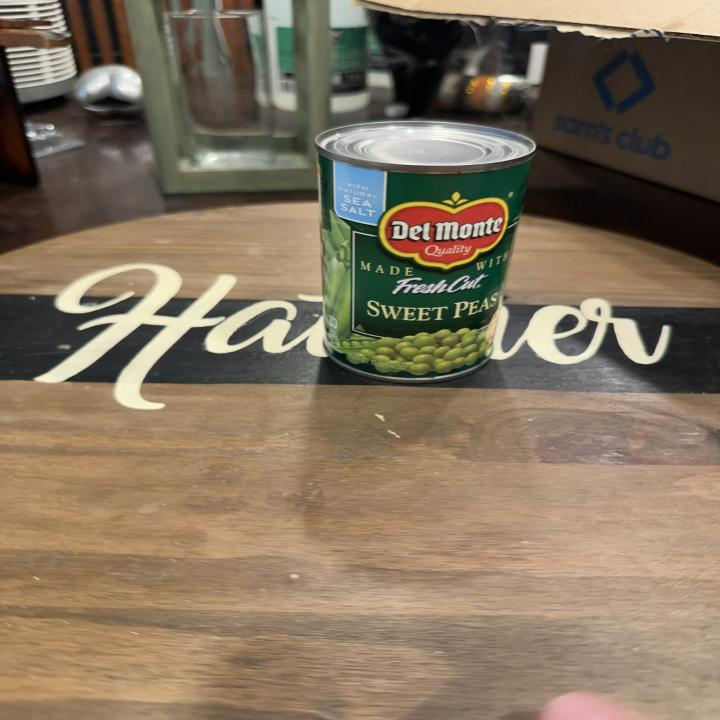Canned-Peas: (316, 117, 540, 381)
